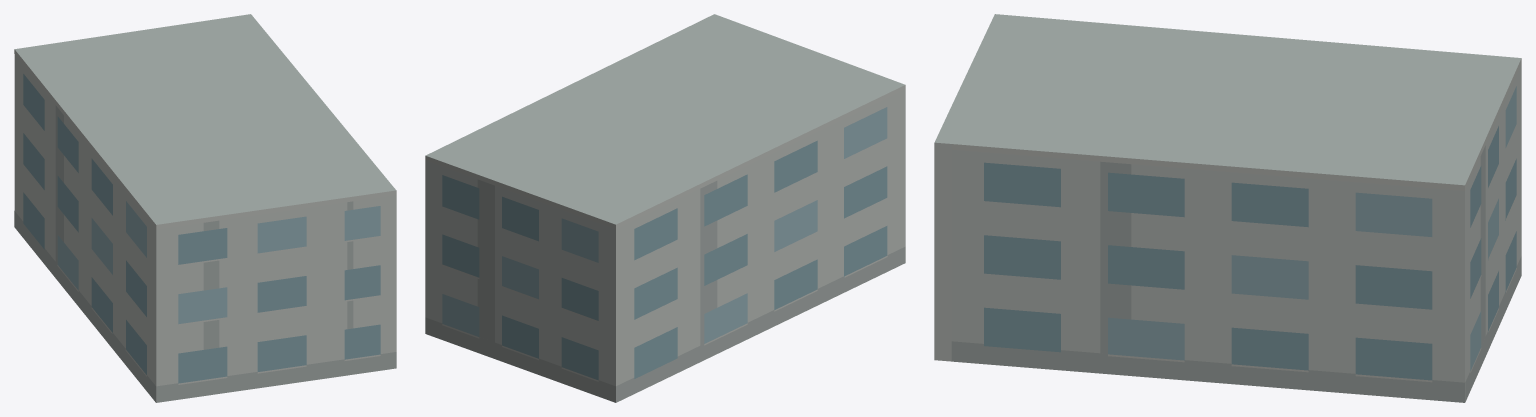
The model's file is survey-upis-32788988.glb.
The picture shows the model from 3 angles, left to right: view 1: azimuth 30°, elevation 25°; view 2: azimuth 150°, elevation 25°; view 3: azimuth 270°, elevation 25°; orthographic projection. The views are drawn at different scales.
Visible parts, largest first — view 1: survey-upis-32788988.tmp; view 2: survey-upis-32788988.tmp; view 3: survey-upis-32788988.tmp.
Part boxes in pixels (left/top/right/bottom): survey-upis-32788988.tmp: left=14, top=14, right=396, bottom=402; survey-upis-32788988.tmp: left=425, top=14, right=905, bottom=402; survey-upis-32788988.tmp: left=934, top=14, right=1521, bottom=402.
Size of the model in its own units: 15.46 by 9.15 by 22.39.
